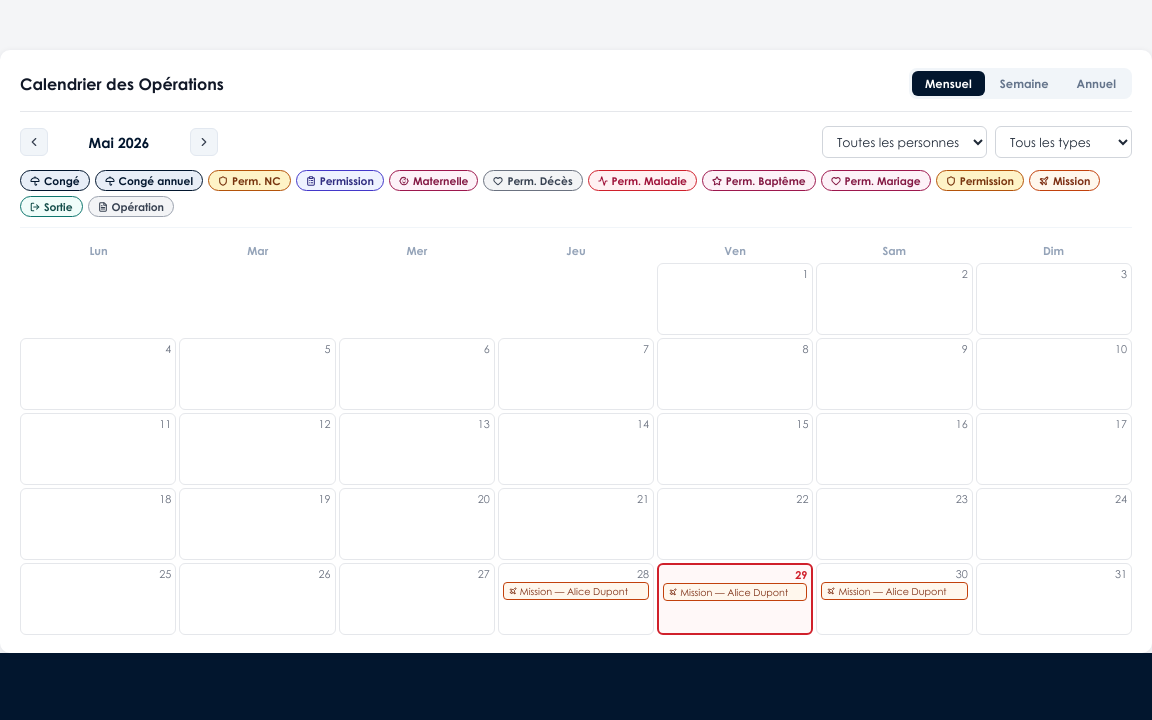
Test: CongeCalendar — date_debut / date_fin (missions) › modal shows correct period for a mission using date_debut / date_fin
This screenshot has width=1152, height=720.
Click the button titled "Mission — Alice Dupont" below "28" at (576, 591), box [503,582,649,600]
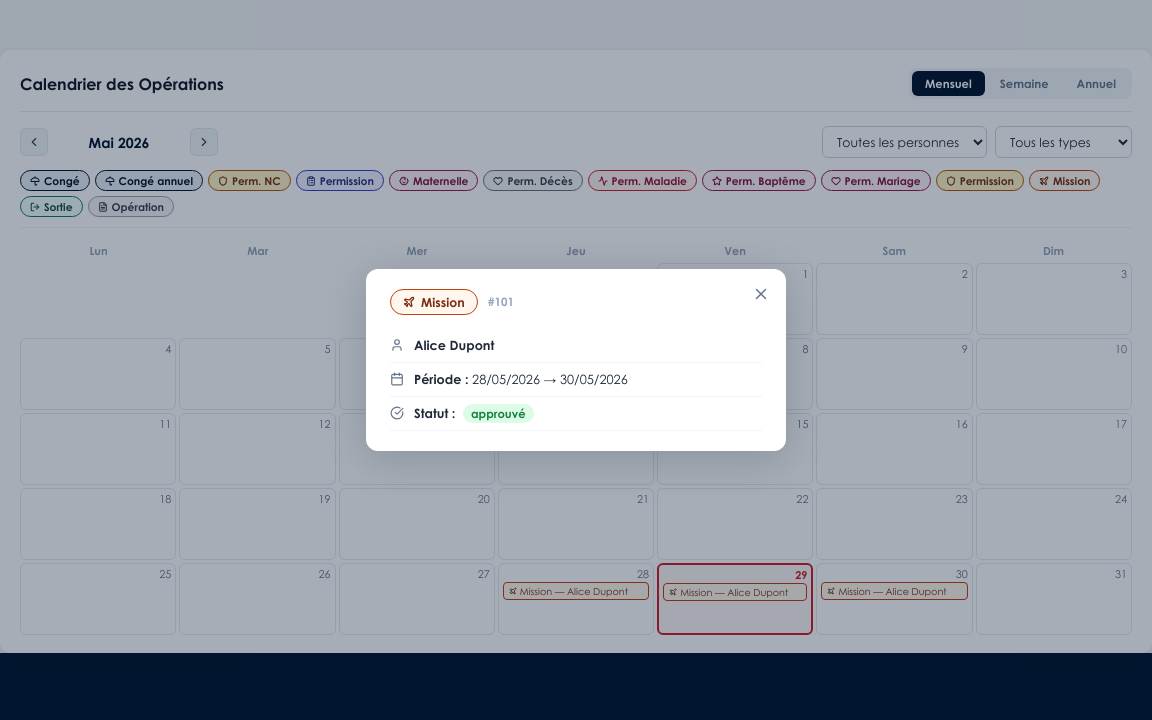
Expected: the dialog shows "Alice Dupont", [414,337,494,353]
Expected: the dialog shows "Mission", [421,294,465,310]
